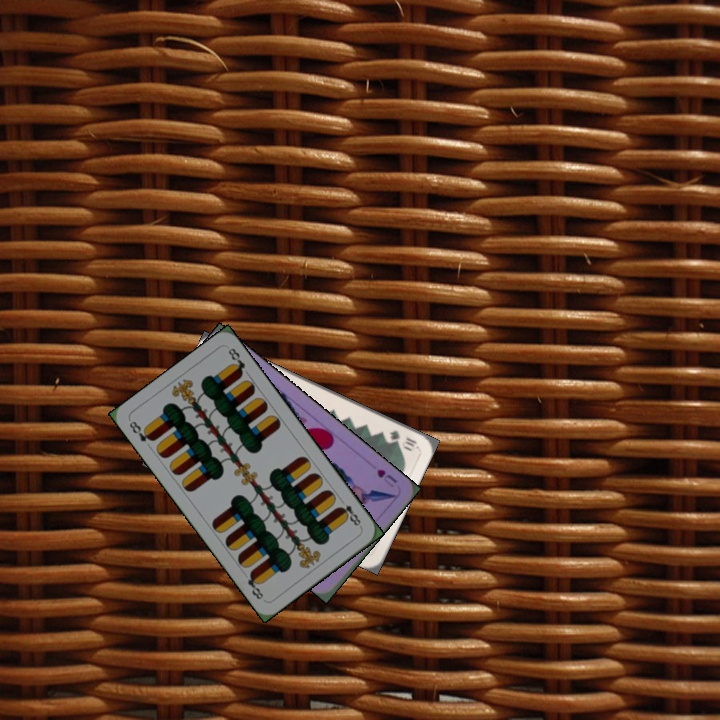E8: (334, 495, 364, 530), (125, 417, 157, 445)
G10: (385, 426, 420, 452)
HU: (372, 465, 400, 490)
